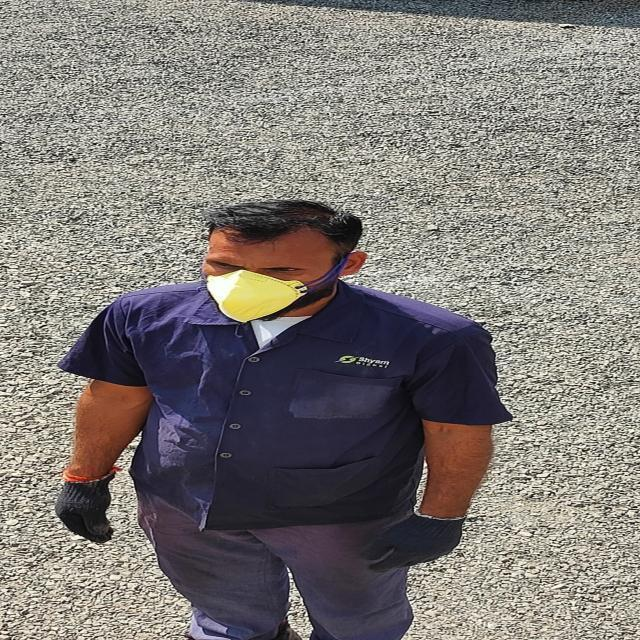gloved_hand: (14, 469, 144, 562), (332, 507, 468, 581)
